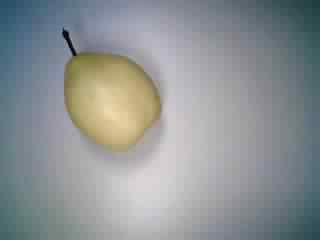pear: (42, 20, 171, 156)
